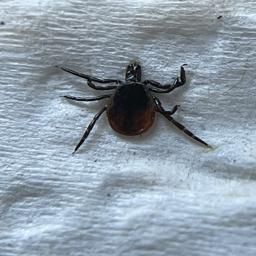Ixodes scapularis: (60, 64, 210, 155)
